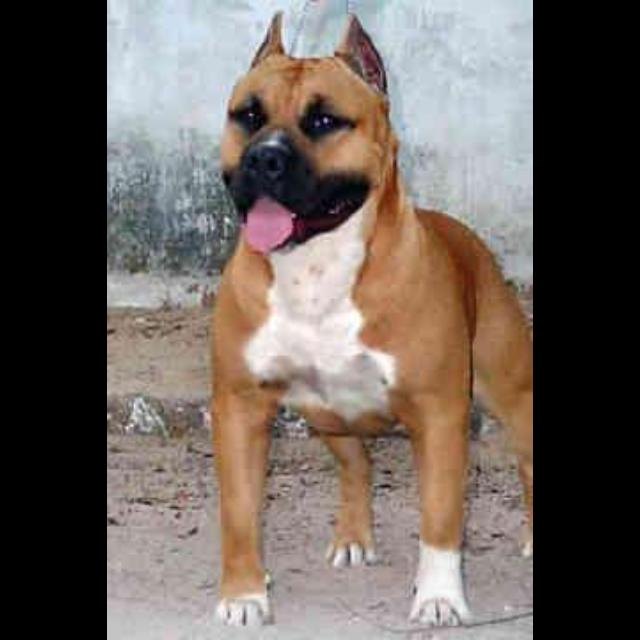amstaff: (210, 10, 533, 630)
